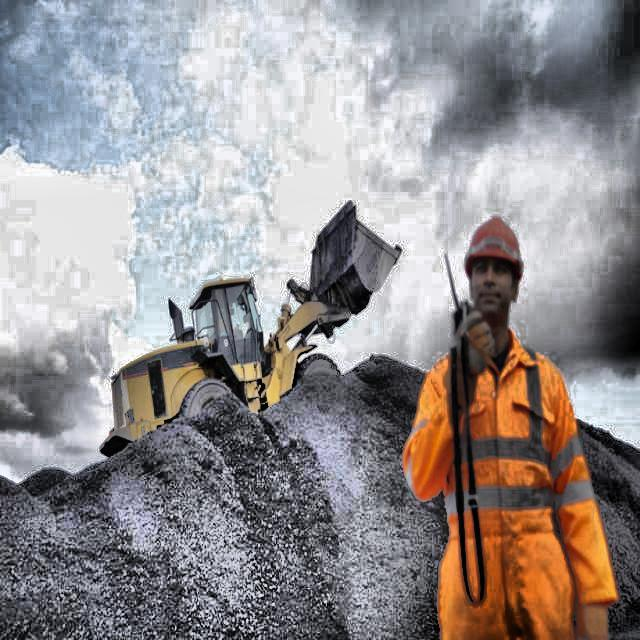person: (398, 205, 616, 640)
